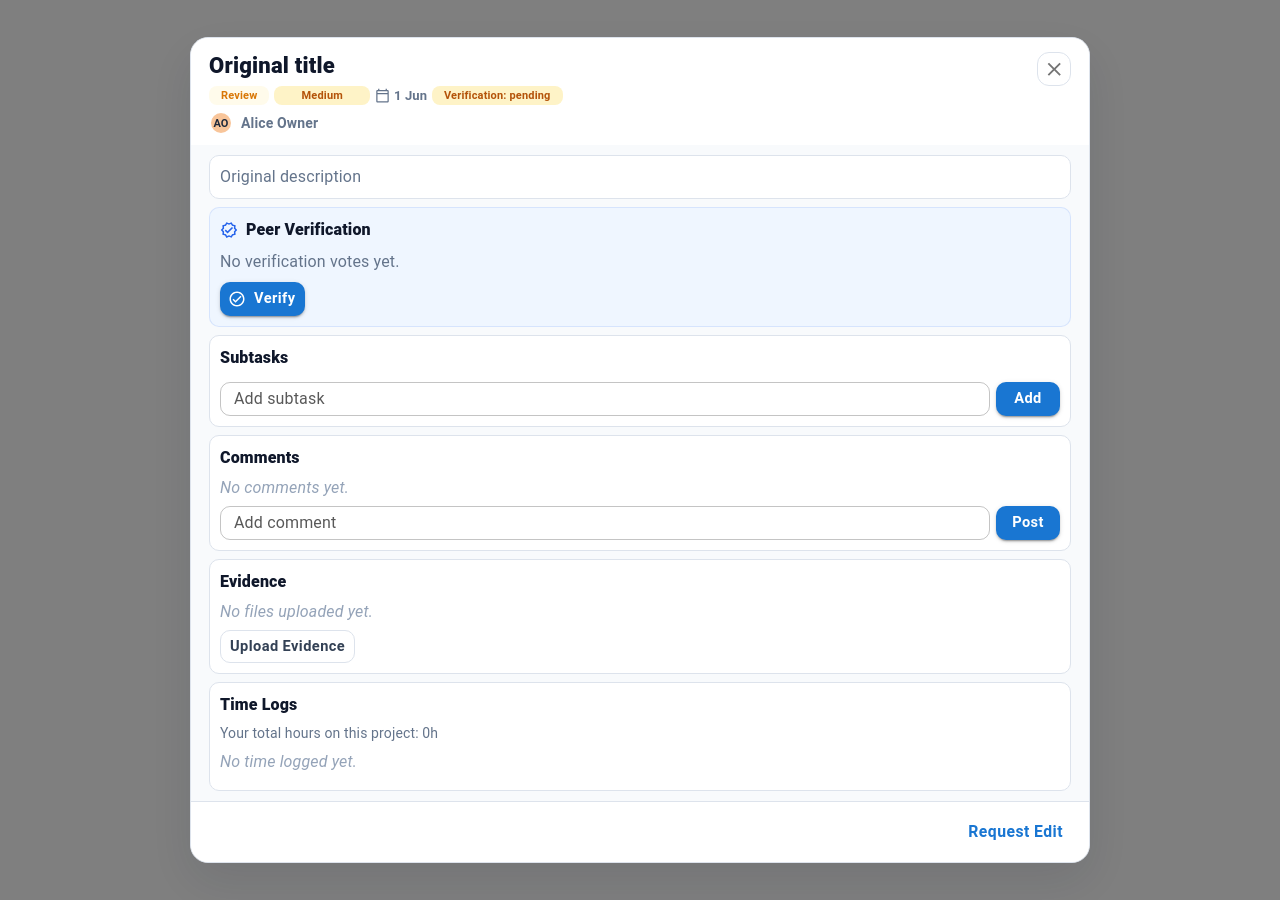
TaskDetailModal task metadata › shows a success popup after verifying inside the task modal
Click the button "Verify". click: (263, 299)
box: [220,282,305,316]
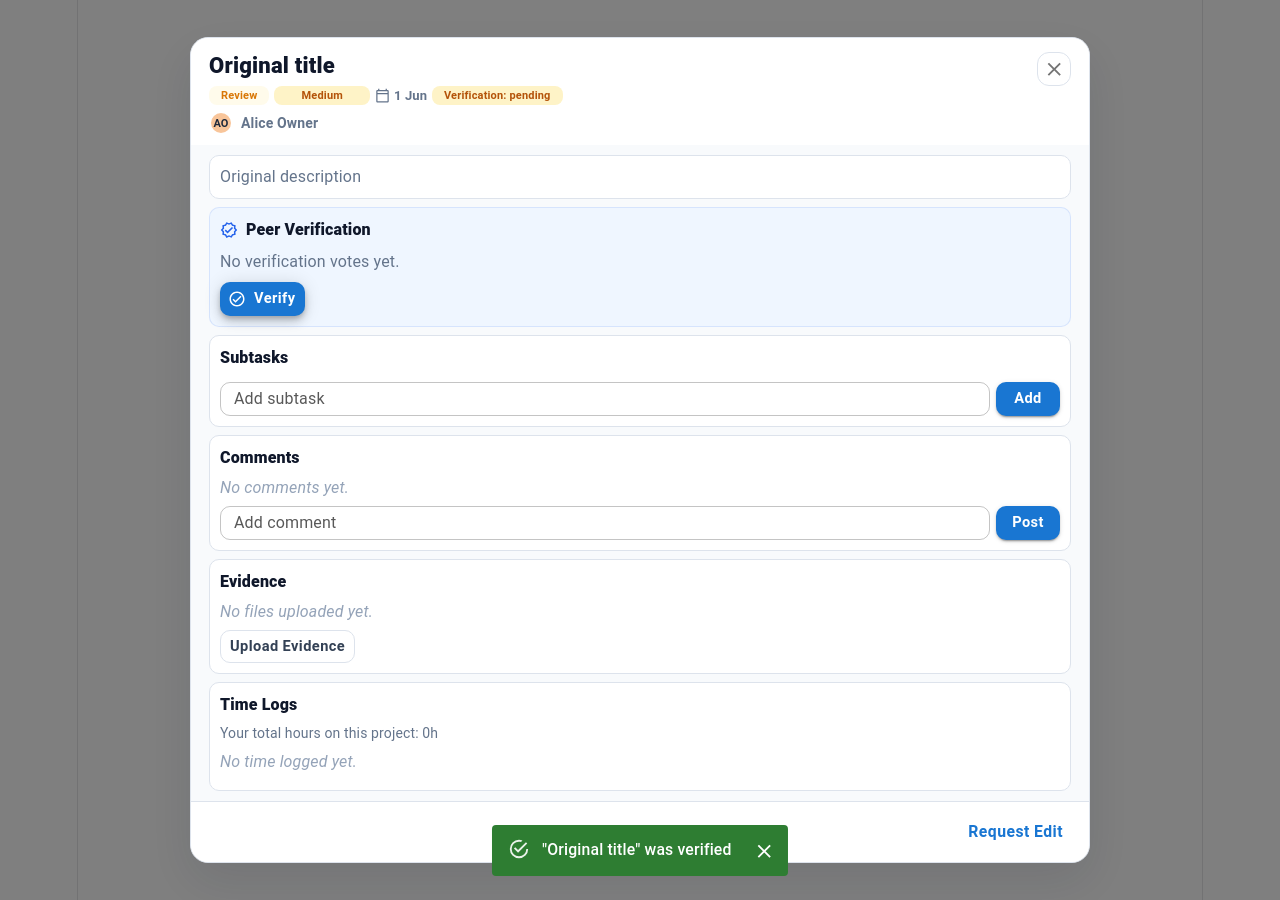
expect the text "\"Original title\" was verified" is shown: met, box [542,840,732,860]
